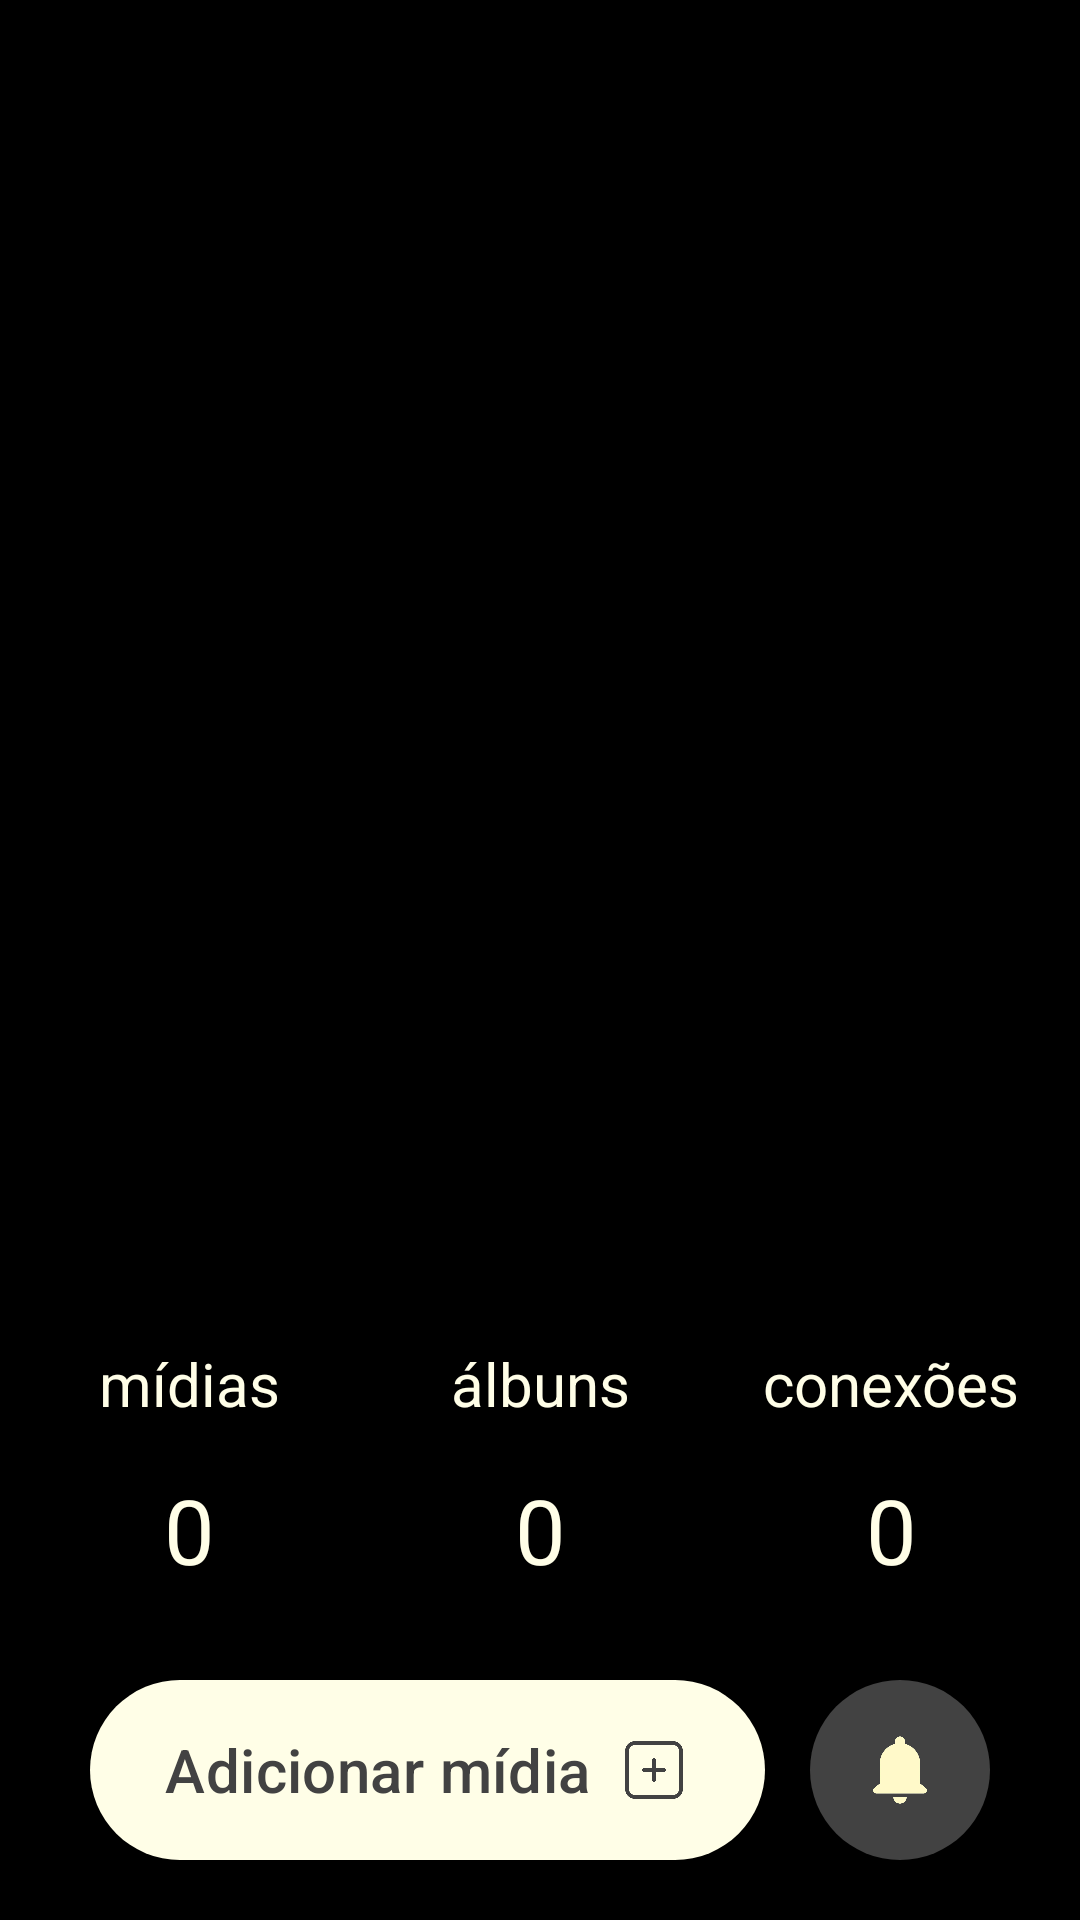

Locate icon controls on the screen. Image size 1080x1920, boxes as (x1, y1, x2, y2).
Botão de notificação: (810, 1680, 990, 1860)
